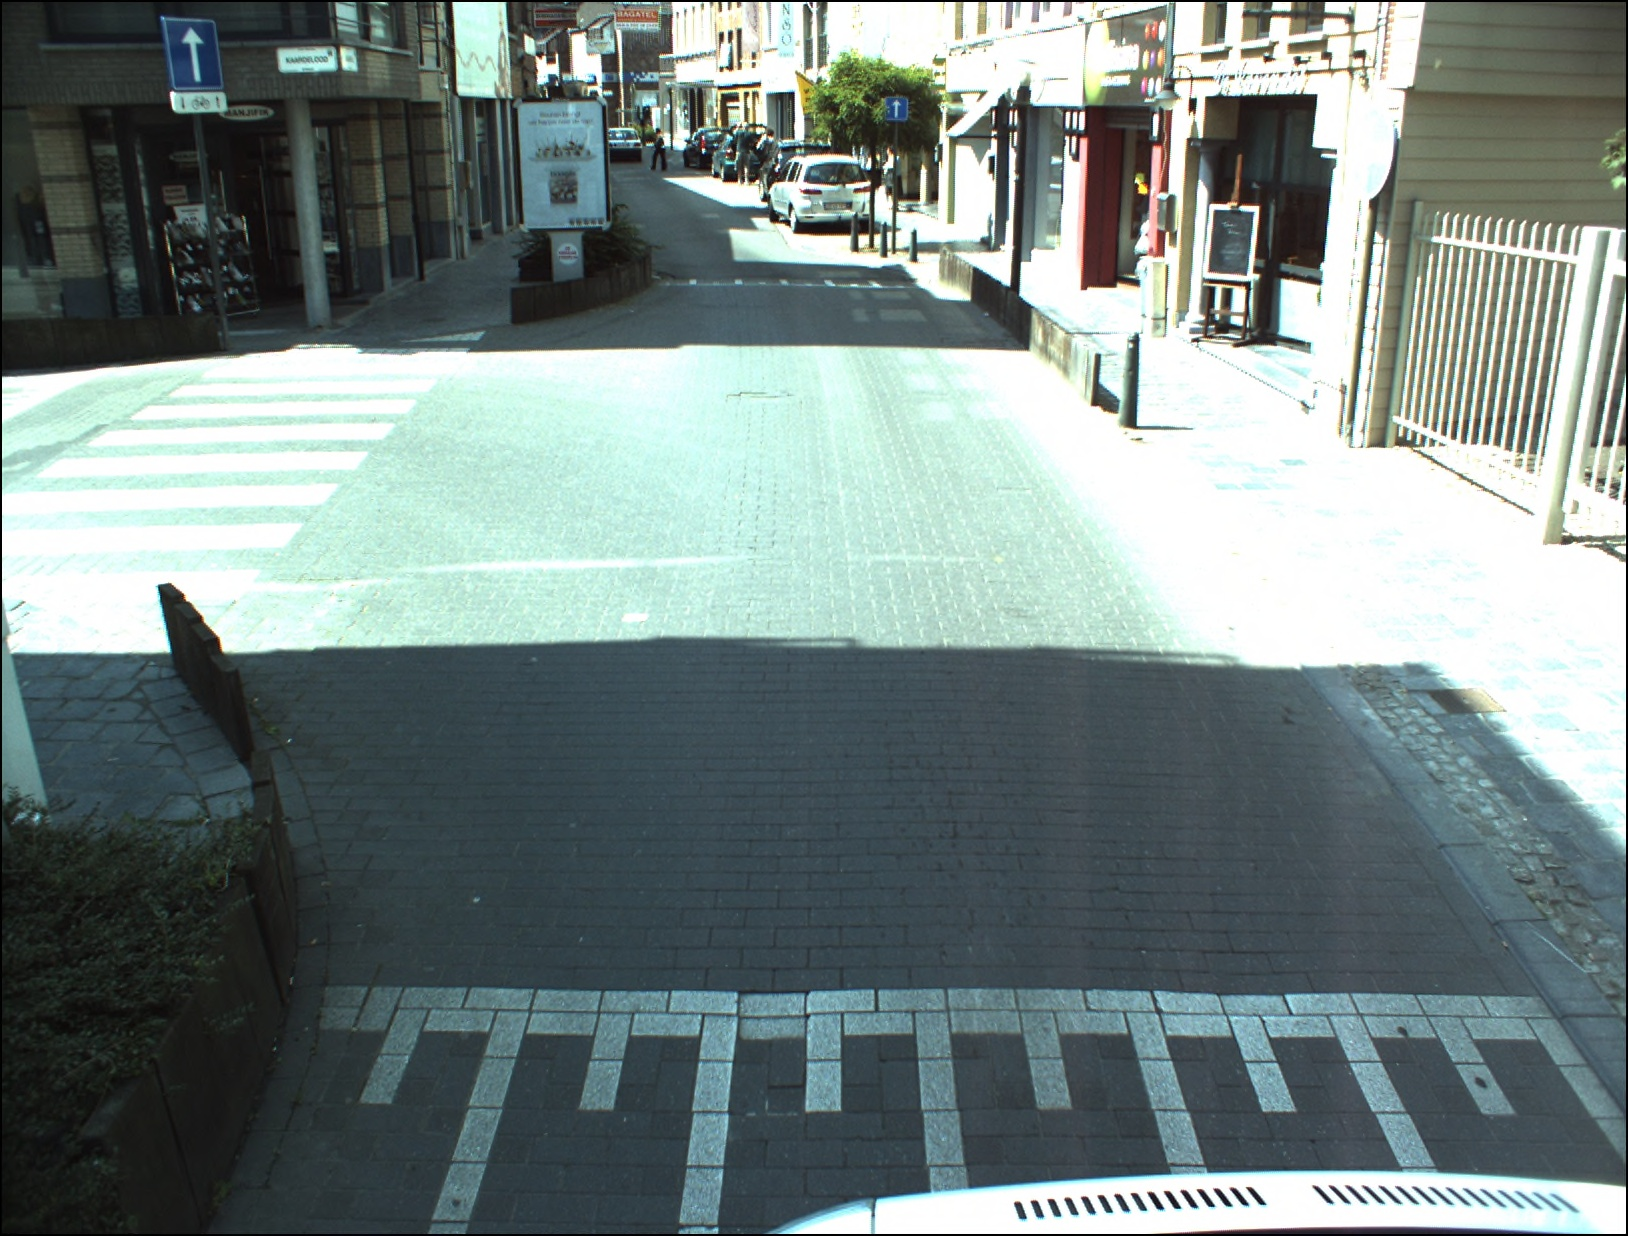oneway: (164, 17, 222, 90), (885, 97, 910, 121)
